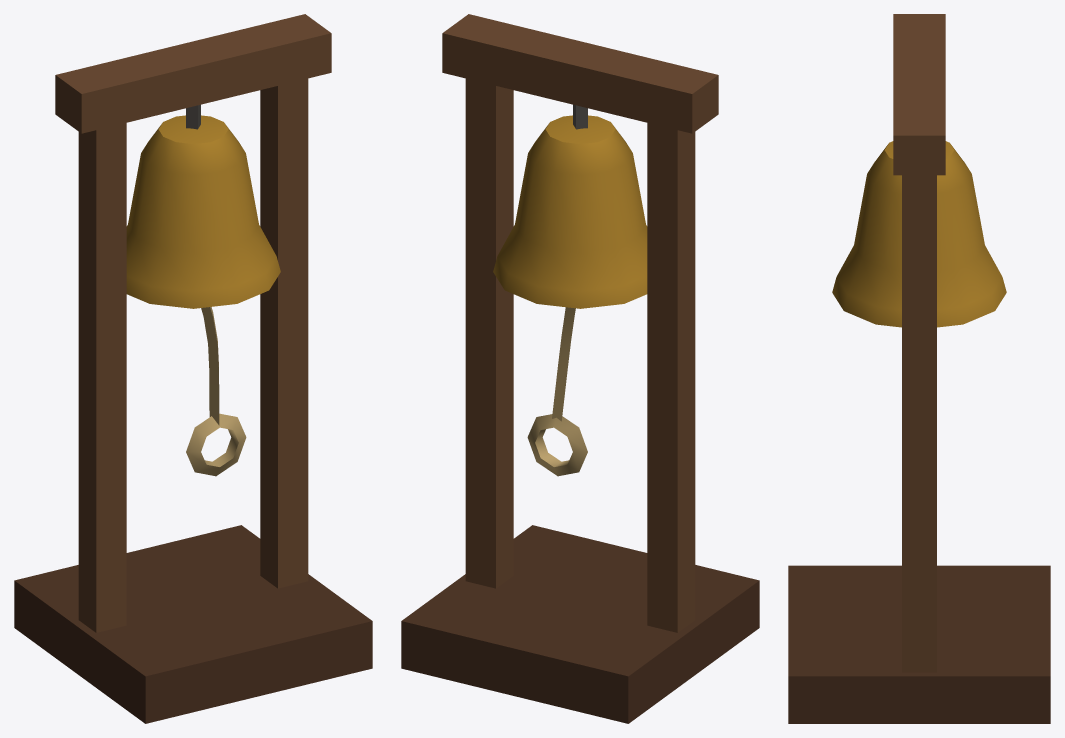
Rendered from ship_bell.glb.
The picture shows the model from 3 angles, left to right: view 1: azimuth 30°, elevation 25°; view 2: azimuth 150°, elevation 25°; view 3: azimuth 270°, elevation 25°; orthographic projection.
Parts seen in each view (by area): view 1: decor-ship_bell; view 2: decor-ship_bell; view 3: decor-ship_bell.
Boxes of the visible parts, <box> form: decor-ship_bell: <box>14,14,372,723</box>; decor-ship_bell: <box>401,14,759,723</box>; decor-ship_bell: <box>788,14,1050,723</box>.
Bounding box in the file's own units: 0.66 × 1.5 × 0.5999.
